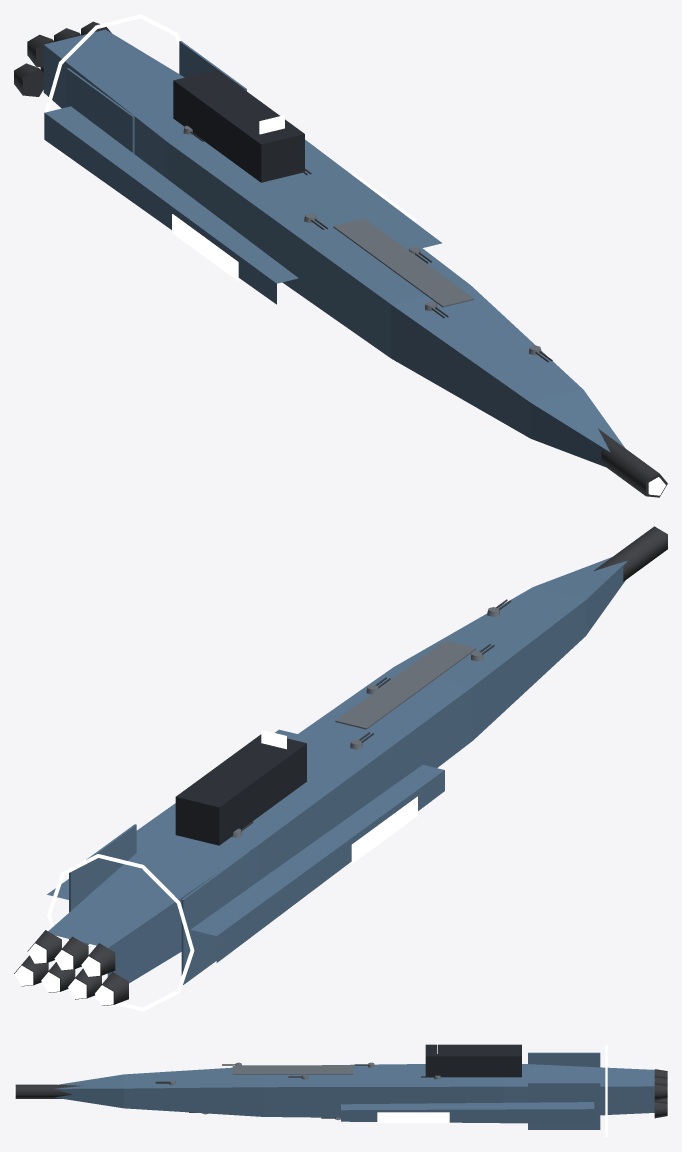
Rendered from space_ship_battleship_mk6_lod1.glb.
The picture shows the model from 3 angles, top to bottom: view 1: azimuth 30°, elevation 25°; view 2: azimuth 150°, elevation 25°; view 3: azimuth 270°, elevation 25°; orthographic projection. The views are drawn at different scales.
Visible parts, largest first — view 1: body, main_gun, hangar_r, engine_0; view 2: body, main_gun, hangar_r, engine_1, engine_0, engine_3, engine_5; view 3: body, hangar_l, main_gun, engine_5, engine_6.
Boxes of the visible parts, x1,y1,x2,y2 form: body: (43,14,624,466); main_gun: (598,428,667,497); hangar_r: (172,214,238,280); engine_0: (14,63,43,96); body: (47,557,627,1011); main_gun: (593,526,667,581); hangar_r: (351,796,417,863); engine_1: (81,943,115,977); engine_0: (94,972,128,1005); engine_3: (54,936,88,970); engine_5: (27,930,61,964); body: (54,1040,654,1137); hangar_l: (377,1112,449,1122); main_gun: (14,1084,82,1098); engine_5: (654,1083,667,1100); engine_6: (654,1101,667,1118).
Bounding box in the file's own units: 28.5 × 24.55 × 165.
